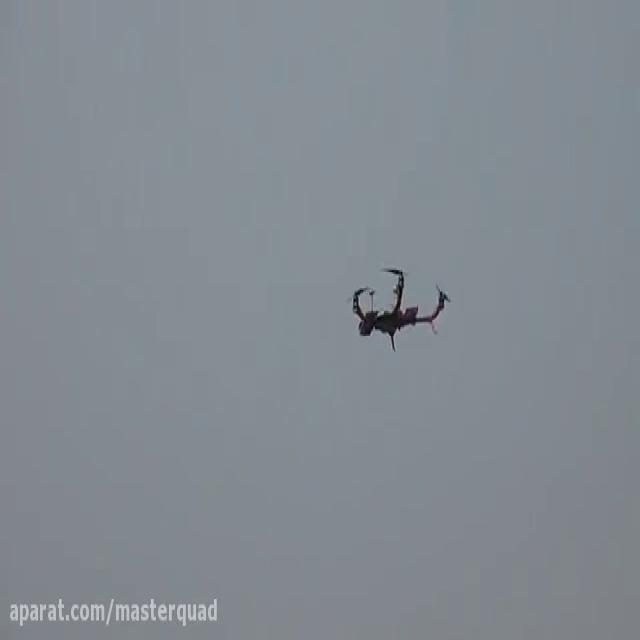drone: (344, 260, 454, 356)
